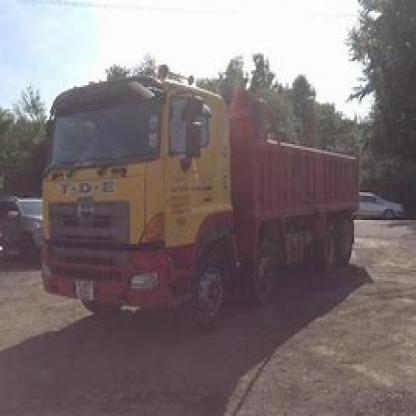dump_truck: (40, 67, 379, 351)
